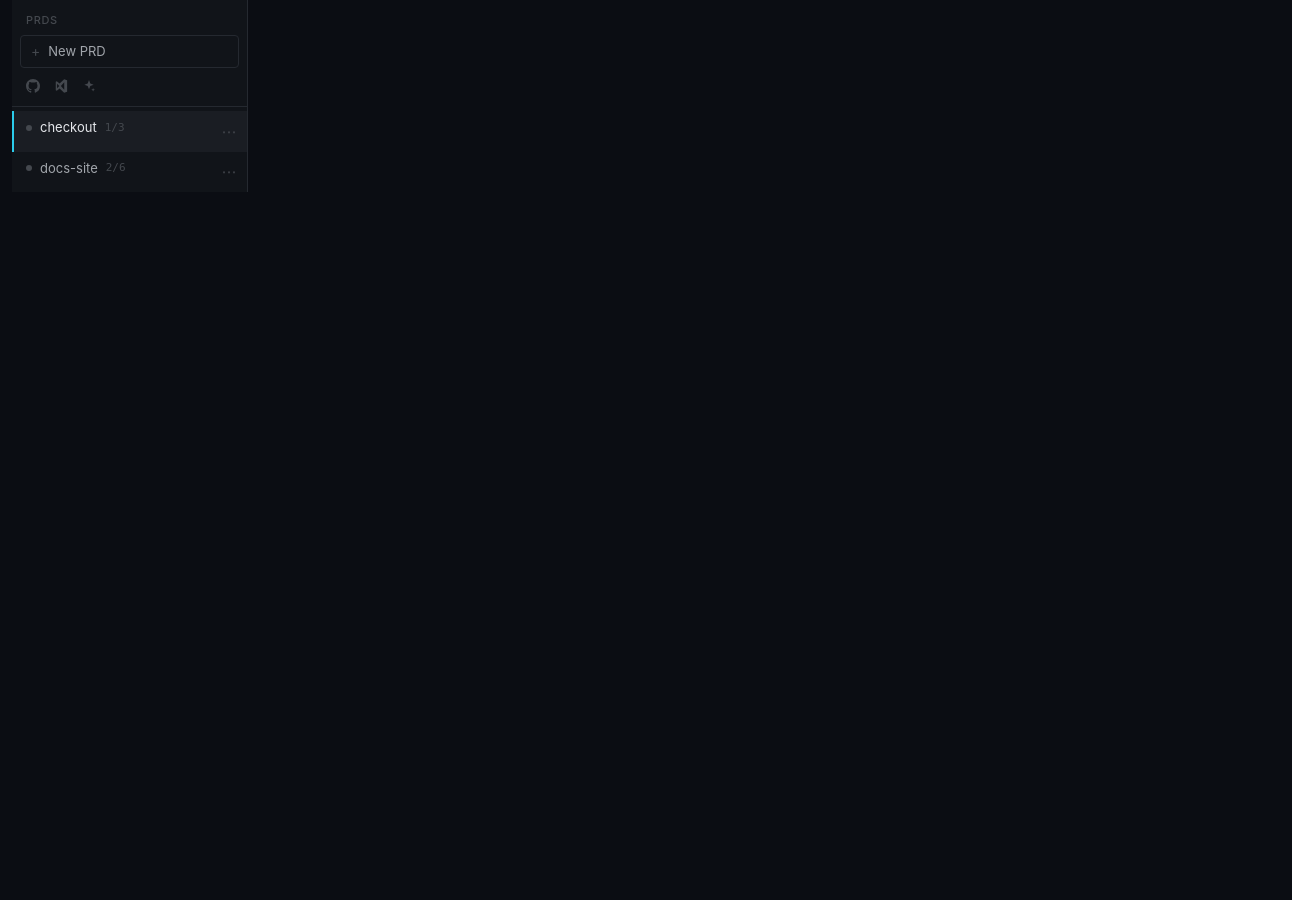
Scenario: dismissal › dismisses on outside pointer press
Click the 1st button "⋯": (229, 131) [217,122,241,141]
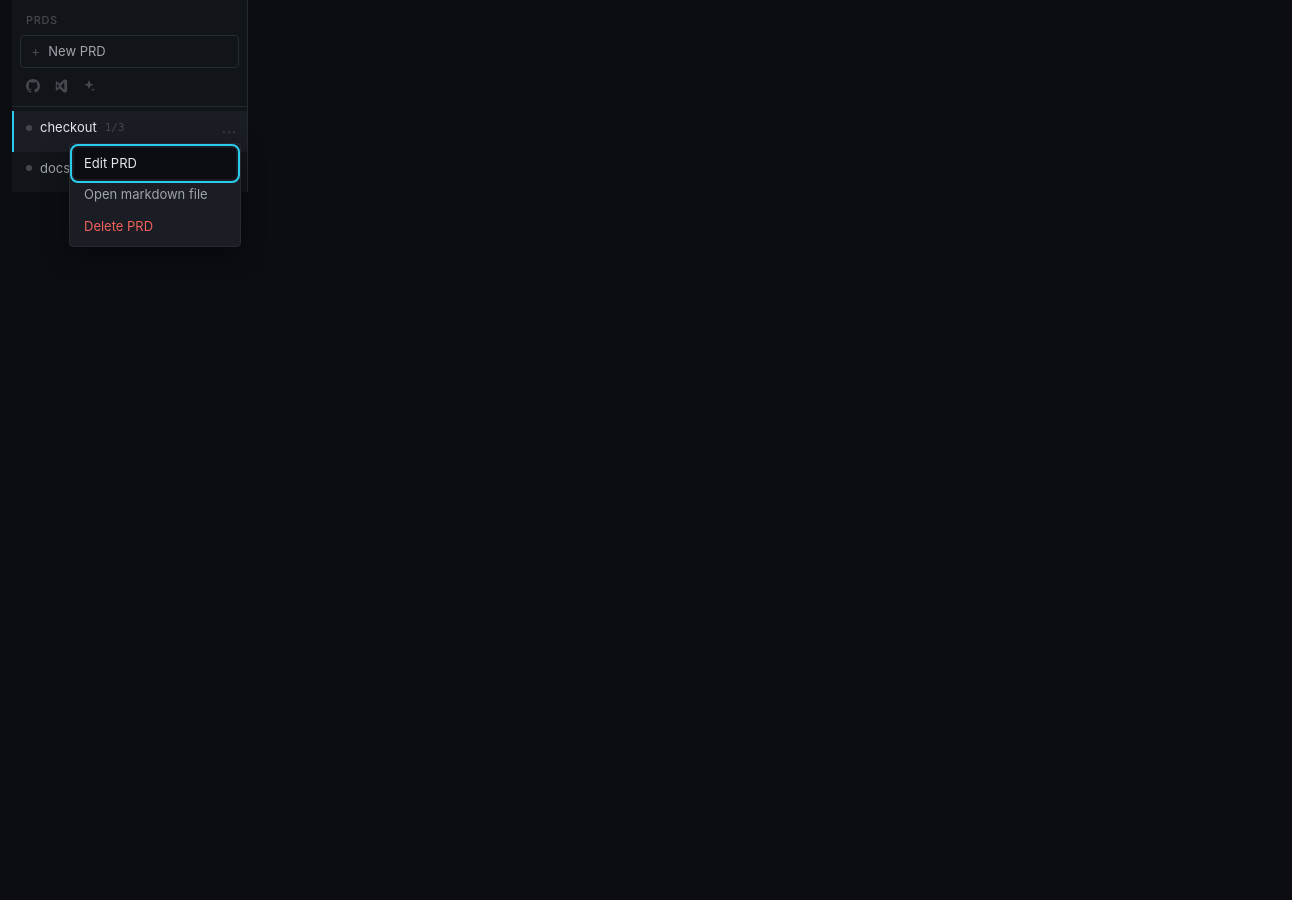
Press the mouse on the element that starts with "PRDS": (652, 450) [12,0,1291,899]
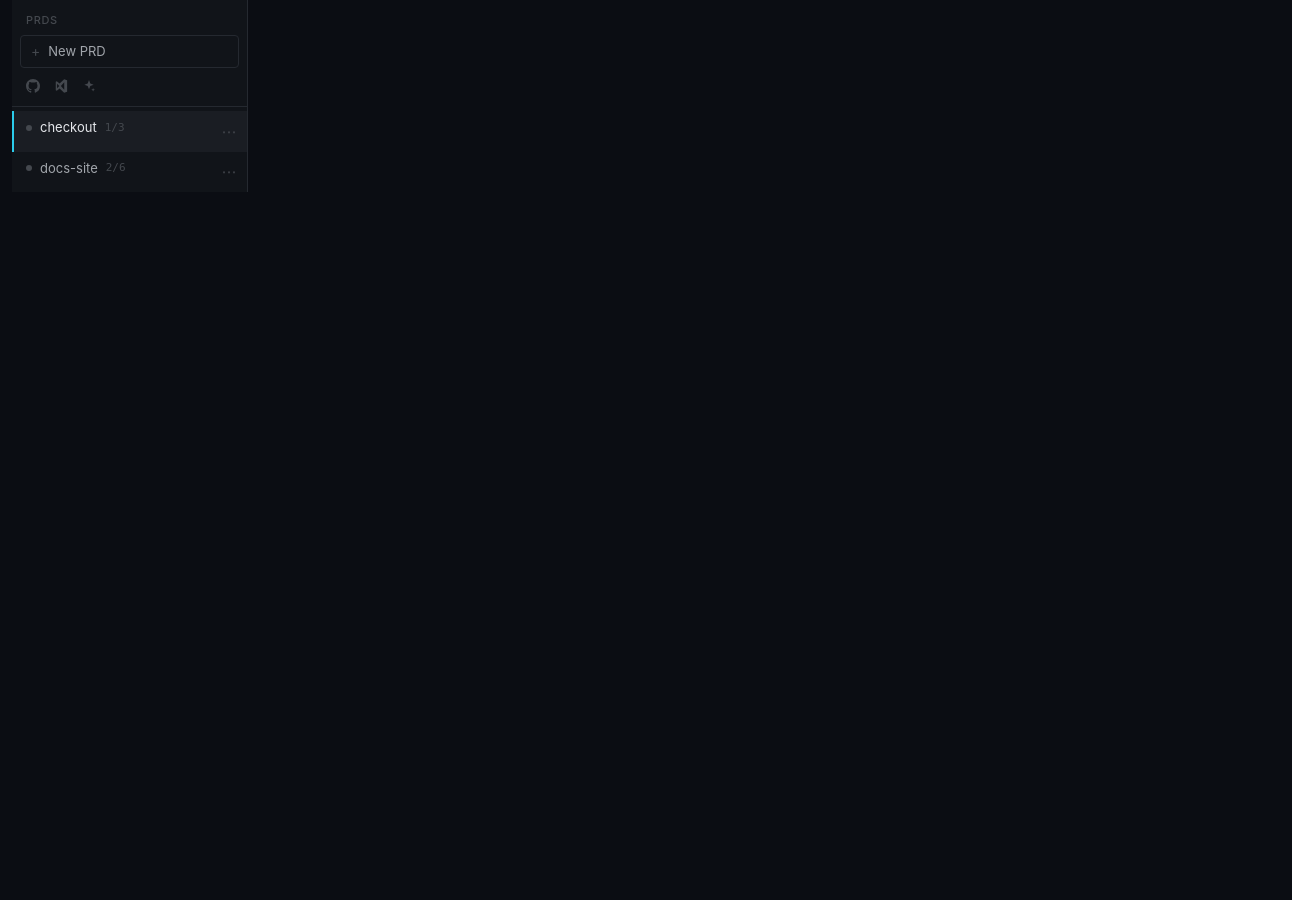
Expected: the menu is gone
